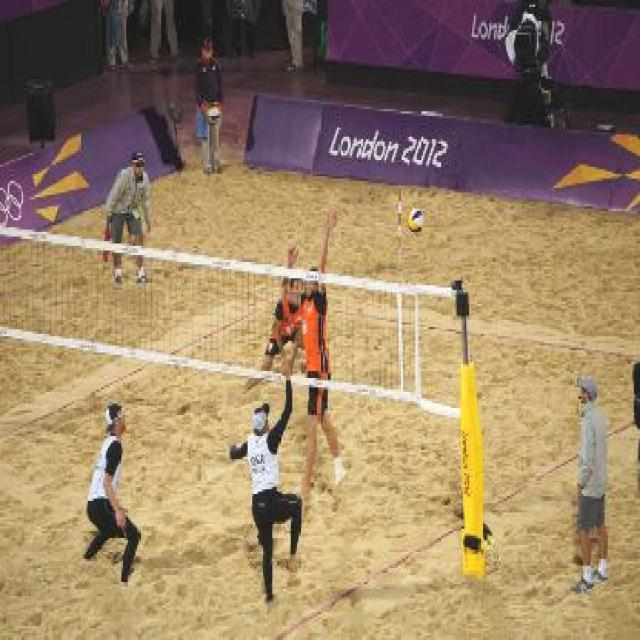volleyball: (406, 207, 424, 234)
